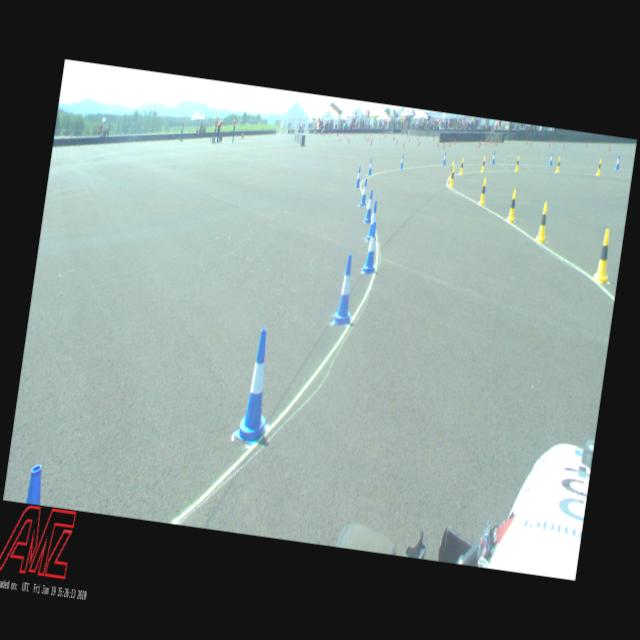blue_cone: (233, 327, 281, 448), (332, 254, 360, 327), (362, 221, 382, 275), (366, 200, 382, 242), (363, 189, 375, 225), (358, 178, 370, 208), (354, 166, 362, 188), (366, 158, 374, 176), (614, 154, 622, 172), (398, 153, 405, 170), (548, 152, 554, 166), (442, 152, 447, 166), (491, 152, 496, 164)
yellow_cone: (592, 229, 616, 286), (535, 201, 551, 243), (506, 188, 520, 224), (478, 177, 489, 206), (448, 166, 457, 190), (554, 156, 562, 173), (448, 160, 454, 181), (596, 158, 603, 176), (514, 156, 521, 172), (459, 157, 465, 175), (481, 155, 486, 172)
